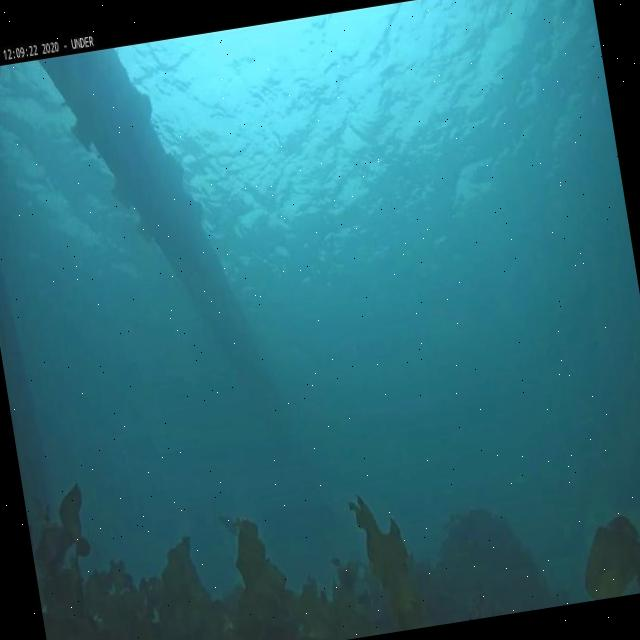fish: (216, 504, 242, 538)
